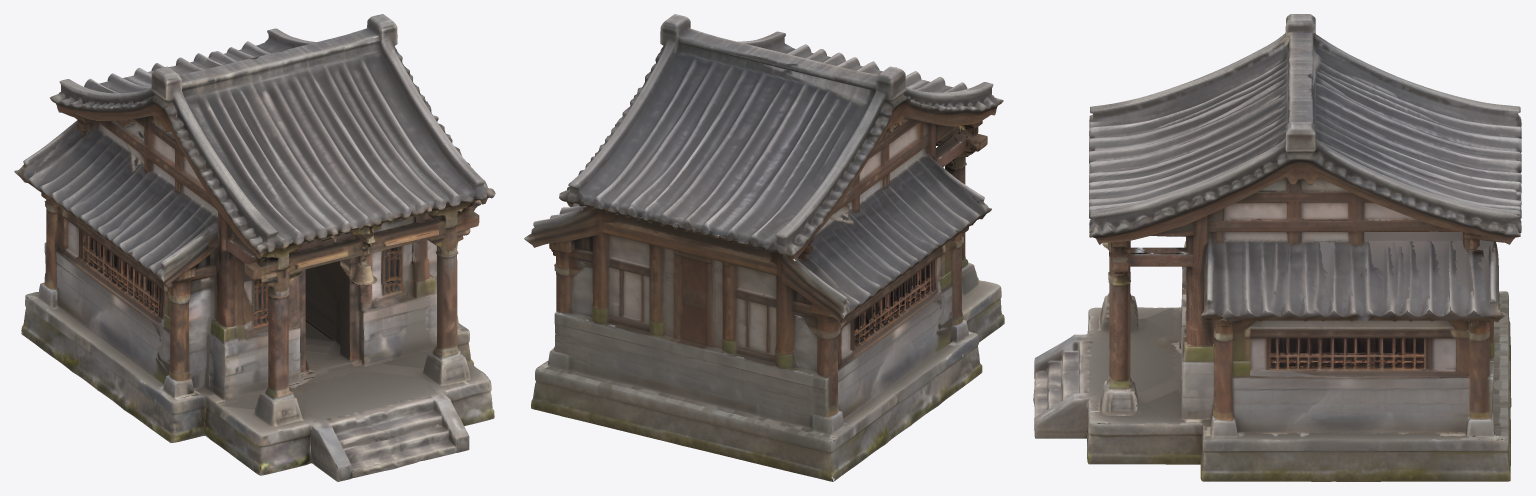
The model's file is base_basic_shaded.glb.
3 renders of one model, left to right at view 1: azimuth 30°, elevation 25°; view 2: azimuth 150°, elevation 25°; view 3: azimuth 270°, elevation 25°, orthographic. The views are drawn at different scales.
Parts seen in each view (by area): view 1: model; view 2: model; view 3: model.
Part boxes in pixels (box(x1,y1,x2,y2)): model: box(14, 14, 495, 481); model: box(524, 14, 1004, 481); model: box(1033, 14, 1521, 481).
Bounding box in the file's own units: 1.48 × 1.44 × 1.9.
1 material, 1 textured.
